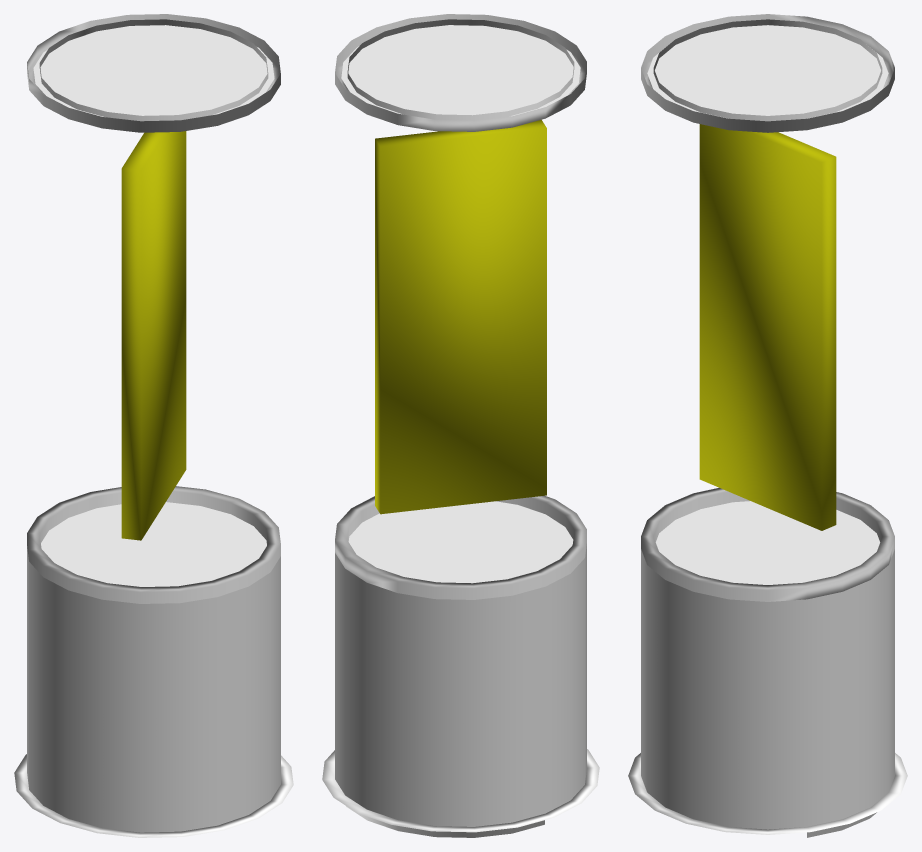
Rendered from display_case_1.fbx.
3 views of the same model, side by side, from view 1: azimuth 30°, elevation 25°; view 2: azimuth 150°, elevation 25°; view 3: azimuth 270°, elevation 25° (orthographic).
Visible parts, largest first — view 1: polySurface607, obelisk_rotate1, polySurface610, polySurface608, polySurface606, polySurface609, polySurface639; view 2: obelisk_rotate1, polySurface607, polySurface610, polySurface608, polySurface609, polySurface606, polySurface639; view 3: polySurface607, obelisk_rotate1, polySurface610, polySurface608, polySurface606, polySurface609, polySurface639.
Boxes of the visible parts, bbox=[...] form: polySurface607: bbox=[27, 546, 280, 832]; obelisk_rotate1: bbox=[121, 131, 186, 540]; polySurface610: bbox=[33, 25, 274, 116]; polySurface608: bbox=[41, 502, 266, 586]; polySurface606: bbox=[27, 486, 280, 603]; polySurface609: bbox=[27, 14, 280, 132]; polySurface639: bbox=[14, 754, 293, 837]; obelisk_rotate1: bbox=[375, 119, 546, 514]; polySurface607: bbox=[335, 544, 586, 826]; polySurface610: bbox=[341, 25, 580, 116]; polySurface608: bbox=[348, 501, 573, 583]; polySurface609: bbox=[335, 14, 586, 131]; polySurface606: bbox=[335, 495, 586, 599]; polySurface639: bbox=[322, 749, 599, 837]; polySurface607: bbox=[641, 549, 894, 829]; obelisk_rotate1: bbox=[699, 124, 836, 530]; polySurface610: bbox=[647, 25, 888, 118]; polySurface608: bbox=[655, 501, 880, 584]; polySurface606: bbox=[641, 488, 894, 601]; polySurface609: bbox=[641, 14, 894, 132]; polySurface639: bbox=[628, 753, 907, 837].
Size of the model in its own units: 2.2 by 6.25 by 2.2.
